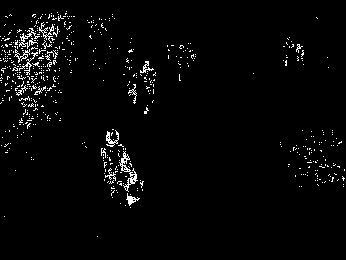person: (94, 126, 144, 219)
